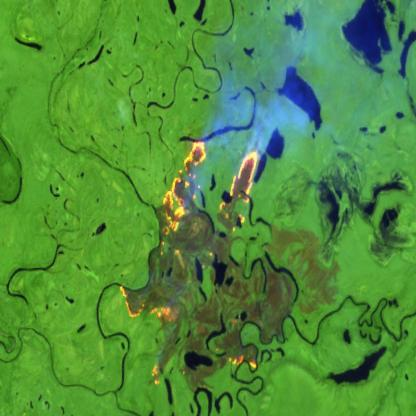fire: (116, 139, 272, 388)
